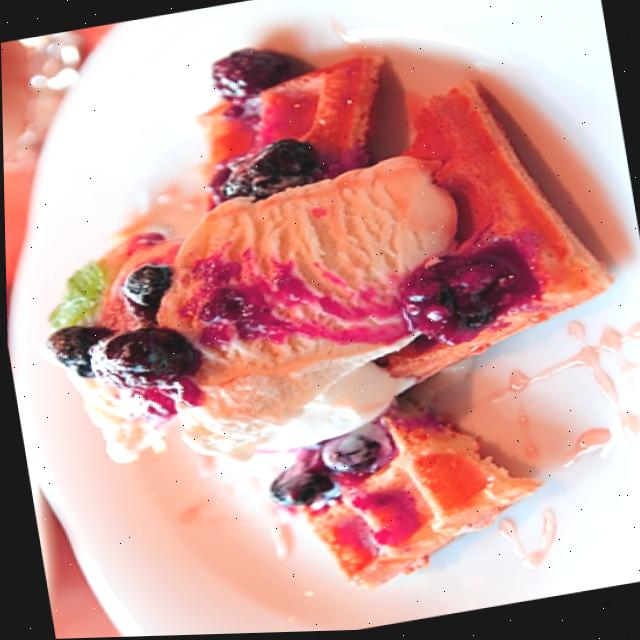汉堡快餐: (1, 35, 610, 609)
